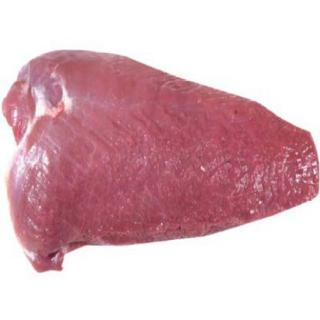Daging Sapi: (7, 50, 320, 273)
